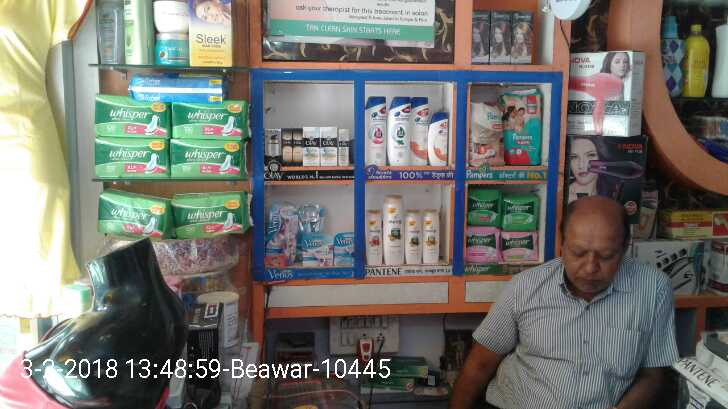venus: (267, 201, 292, 260), (302, 228, 332, 264), (332, 228, 350, 265), (302, 204, 325, 224)
